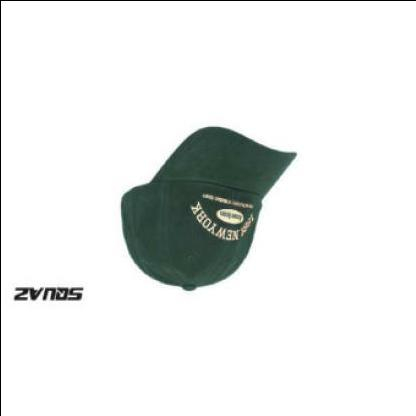cap: (112, 122, 306, 295)
